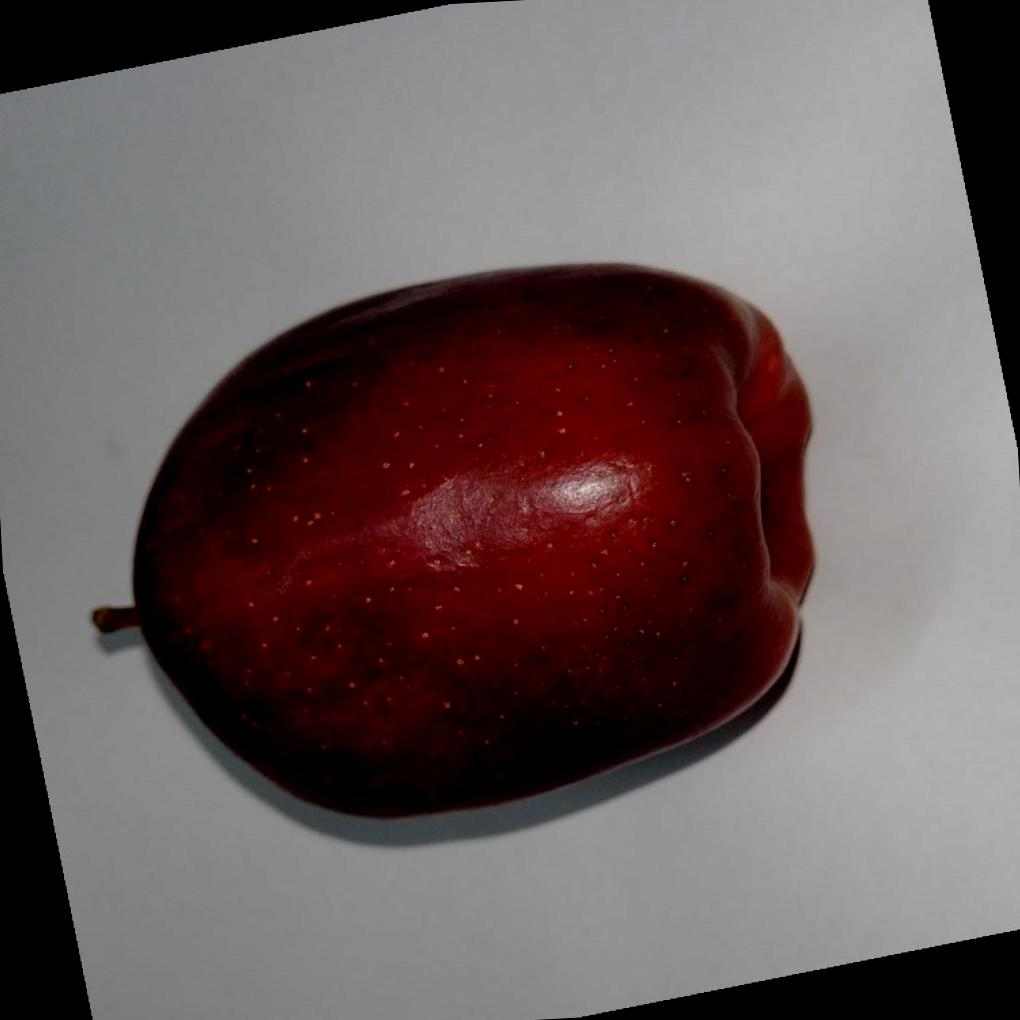FreshOrange: (133, 259, 819, 846)
